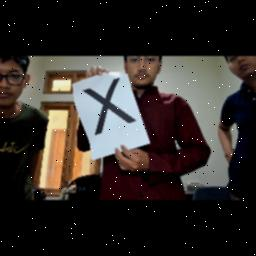x: (78, 78, 138, 138)
